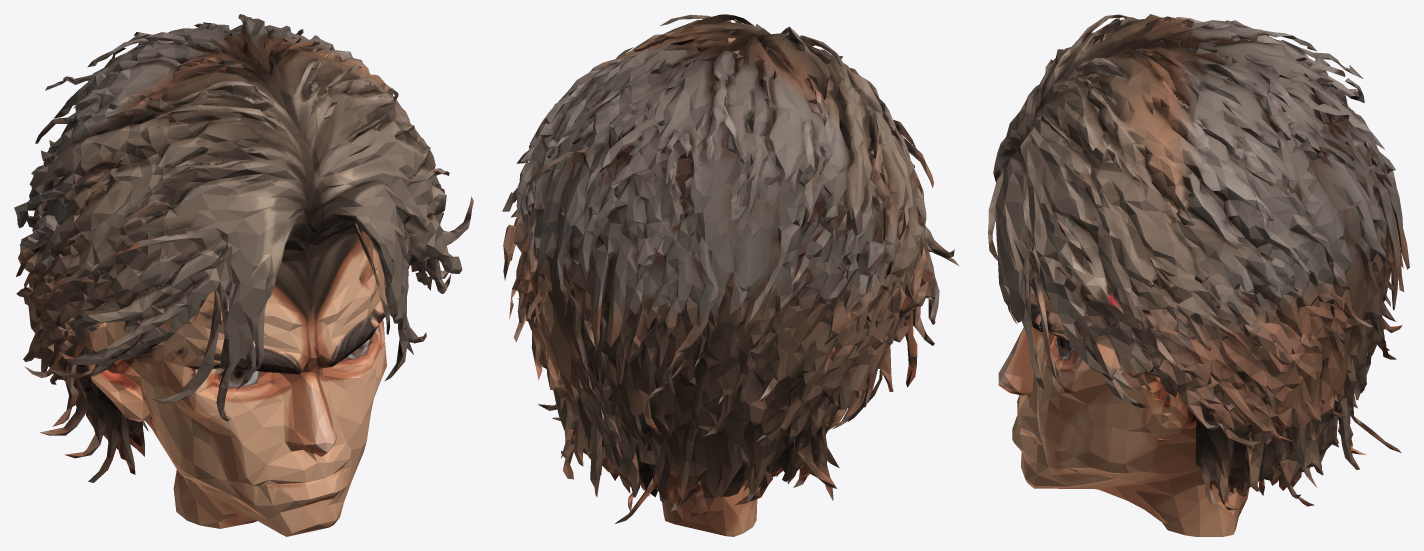
File: side_itami_repaired_atlas.glb
3 views of the same model, side by side, from view 1: azimuth 30°, elevation 25°; view 2: azimuth 150°, elevation 25°; view 3: azimuth 270°, elevation 25° (orthographic). The views are drawn at different scales.
Parts seen in each view (by area): view 1: temp_mesh.ply; view 2: temp_mesh.ply; view 3: temp_mesh.ply.
Boxes of the visible parts, bbox=[...] form: temp_mesh.ply: bbox=[14, 14, 473, 536]; temp_mesh.ply: bbox=[502, 14, 958, 536]; temp_mesh.ply: bbox=[988, 14, 1409, 536].
Bounding box in the file's own units: 1.76 × 1.97 × 1.56.
1 material, 1 textured.
